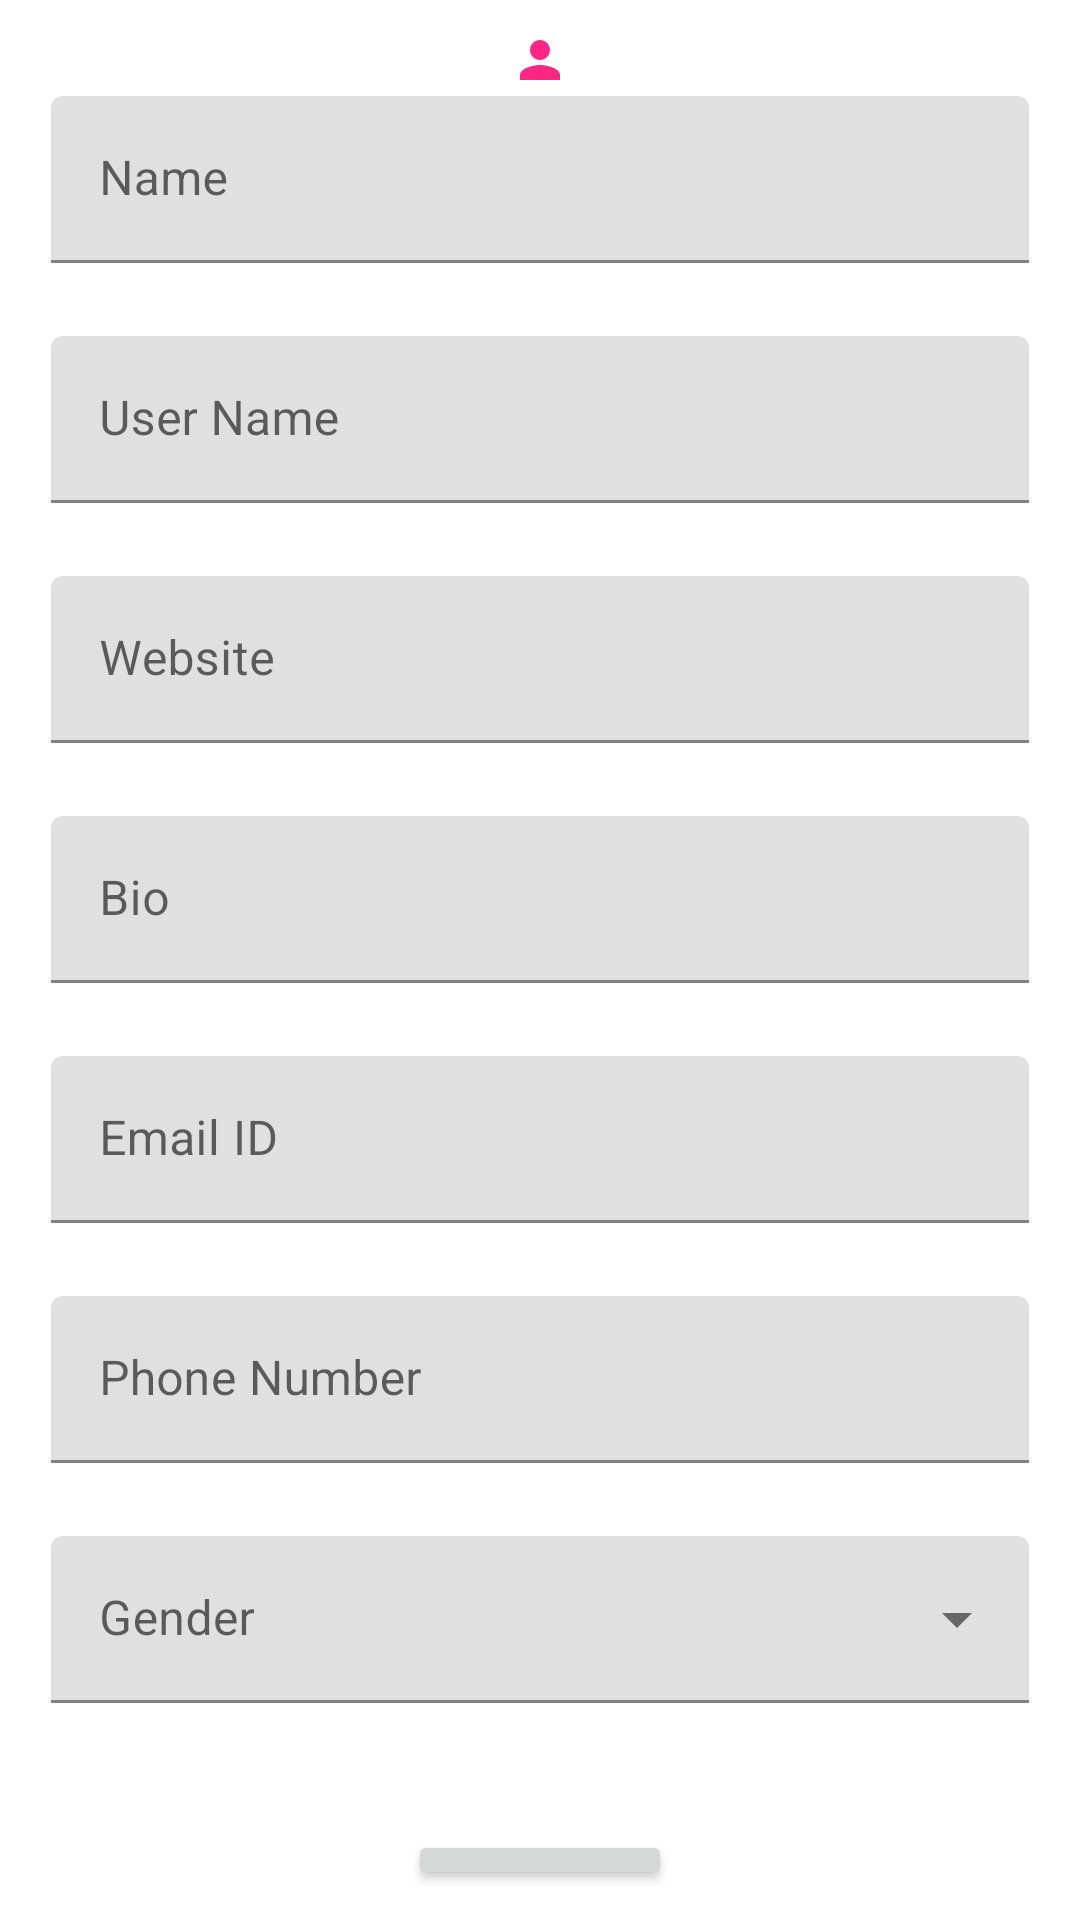

Icons on this 1080w x 1920h Android screen, each with the point to tap as (x,y):
person: (540,60)
